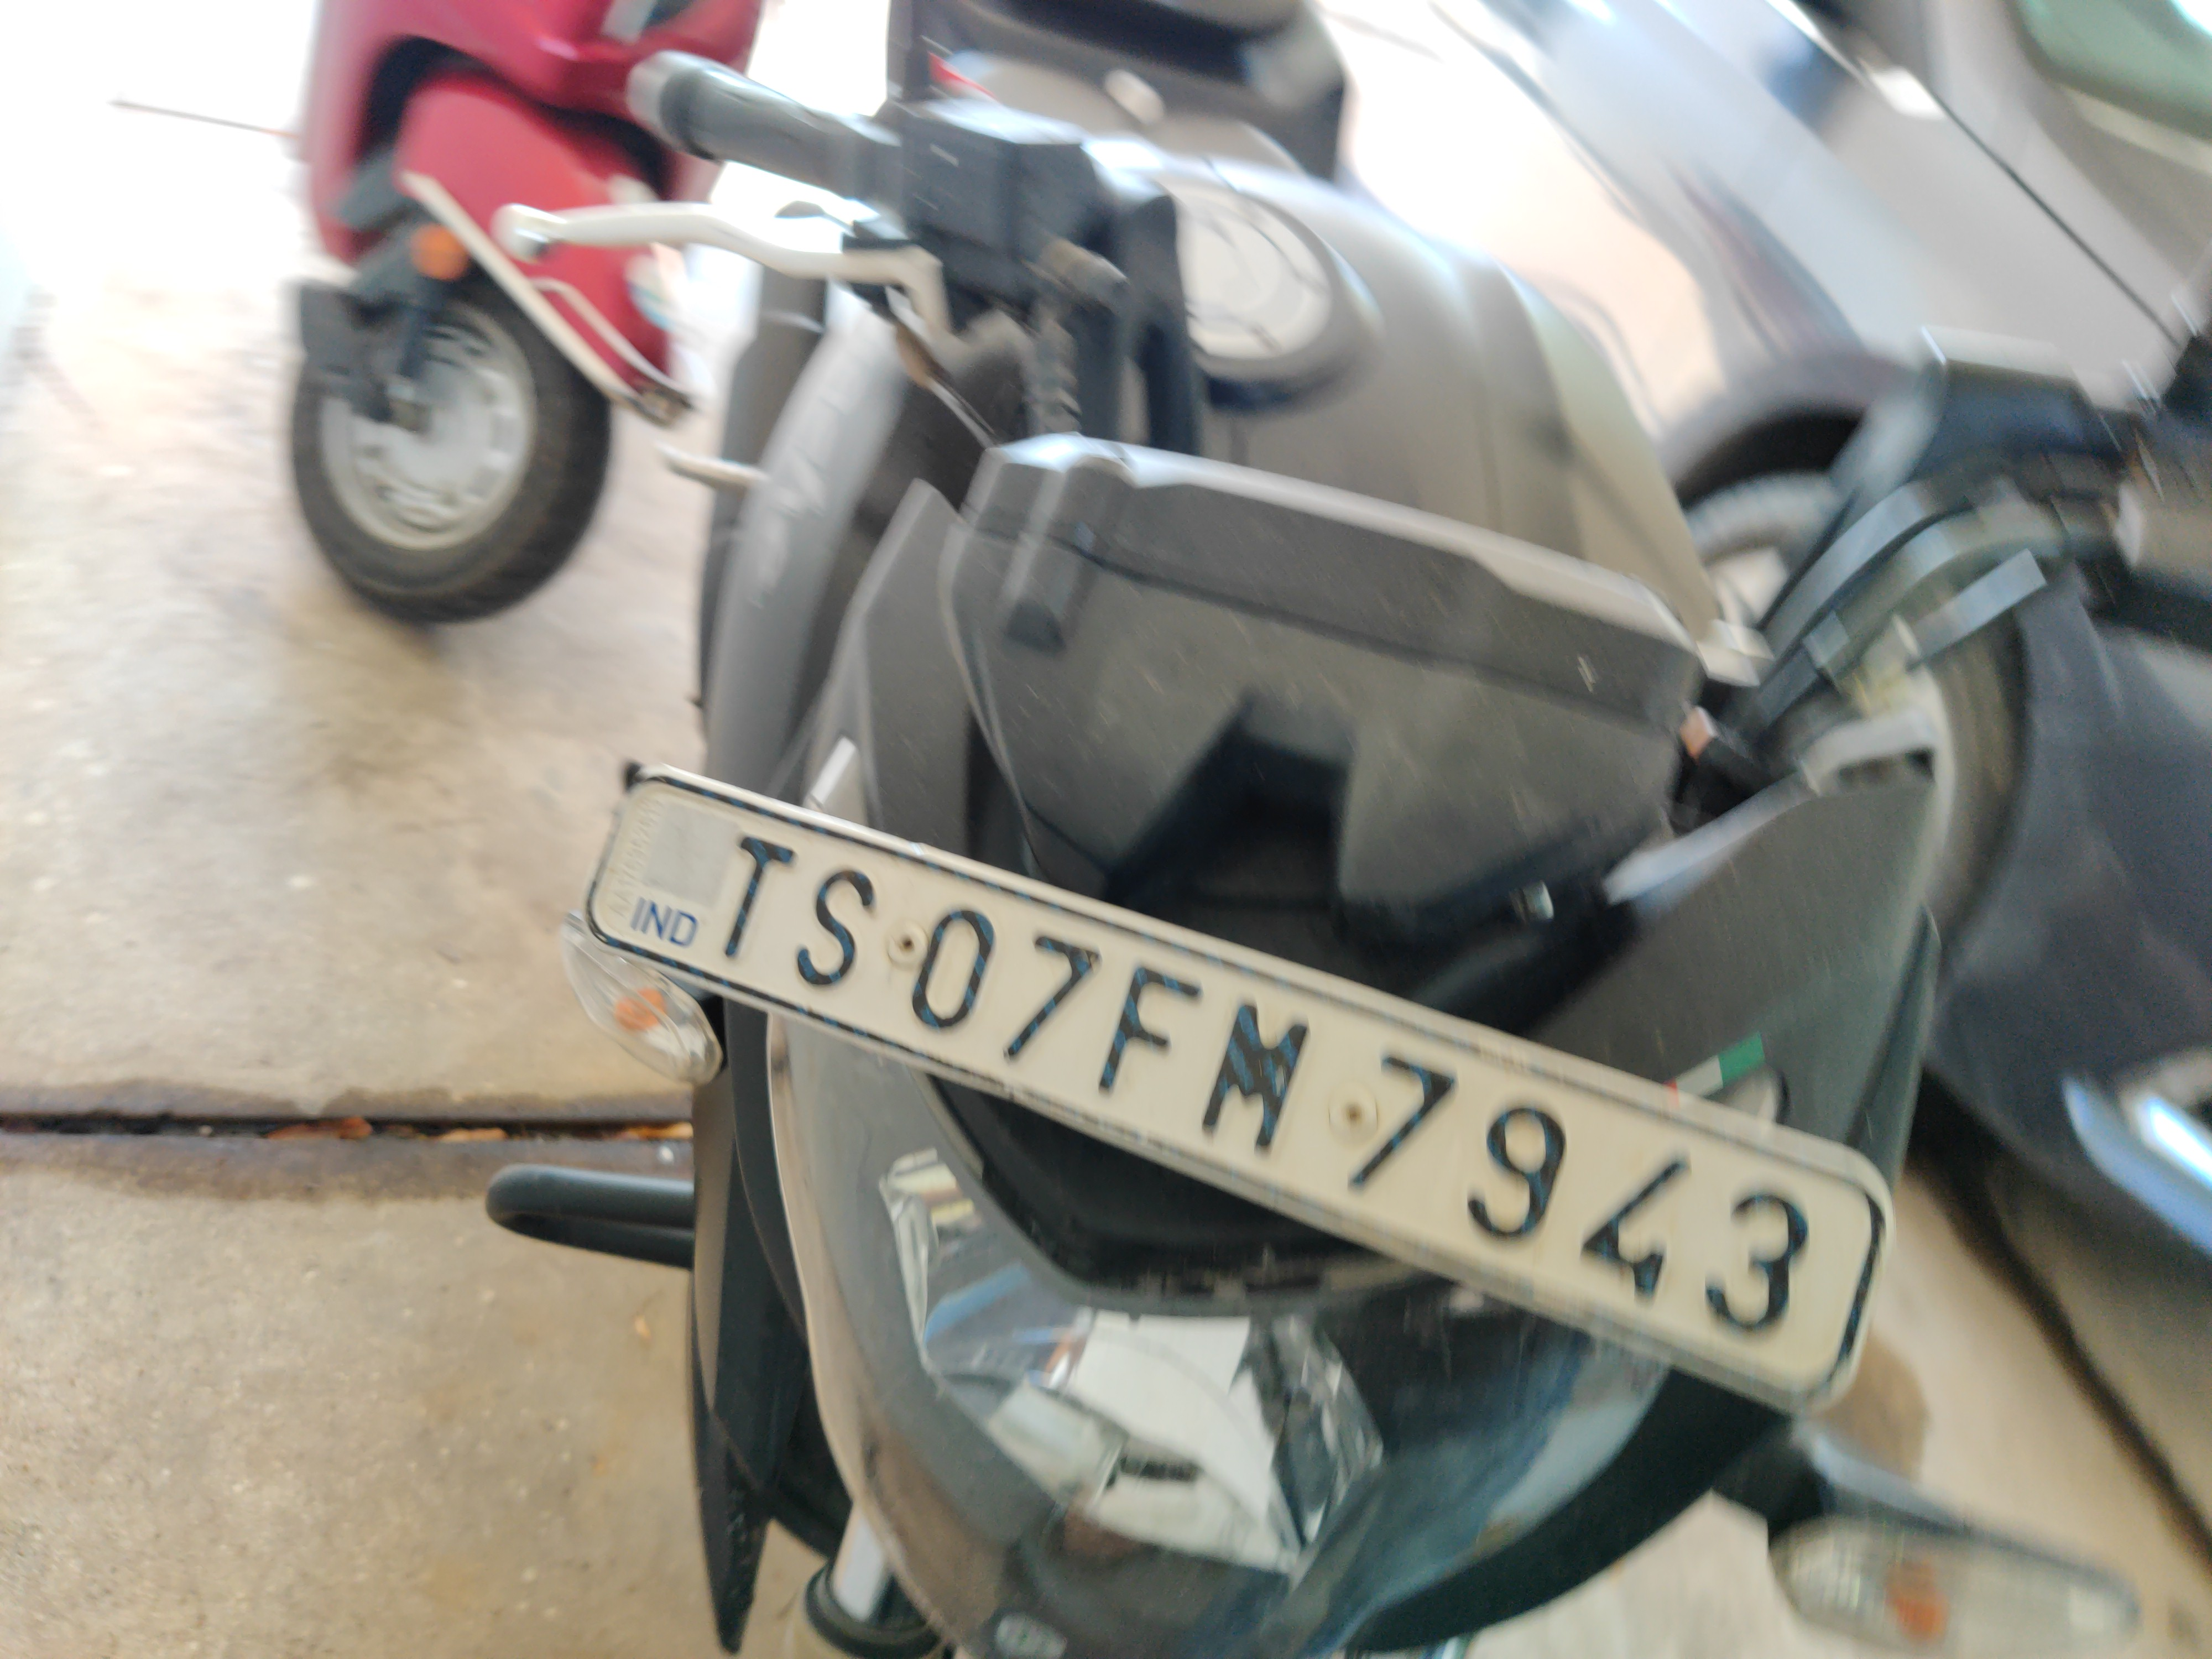plate: (567, 748, 1908, 1421)
